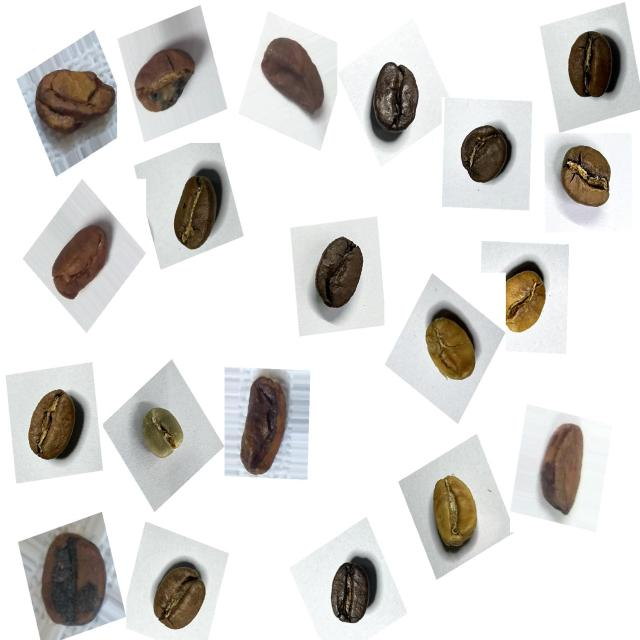bad: (30, 519, 115, 635), (27, 53, 118, 151), (230, 369, 304, 487), (254, 25, 334, 126), (528, 414, 598, 524), (126, 31, 205, 128), (43, 215, 119, 312)
dark: (305, 225, 380, 324), (360, 52, 429, 150), (319, 547, 388, 637)
green: (133, 398, 196, 472)
light: (416, 463, 488, 563), (415, 302, 486, 398), (493, 254, 562, 347)
medium: (15, 378, 91, 474), (161, 163, 233, 262), (556, 24, 630, 110), (143, 554, 216, 640), (551, 136, 621, 222), (450, 114, 520, 198)
